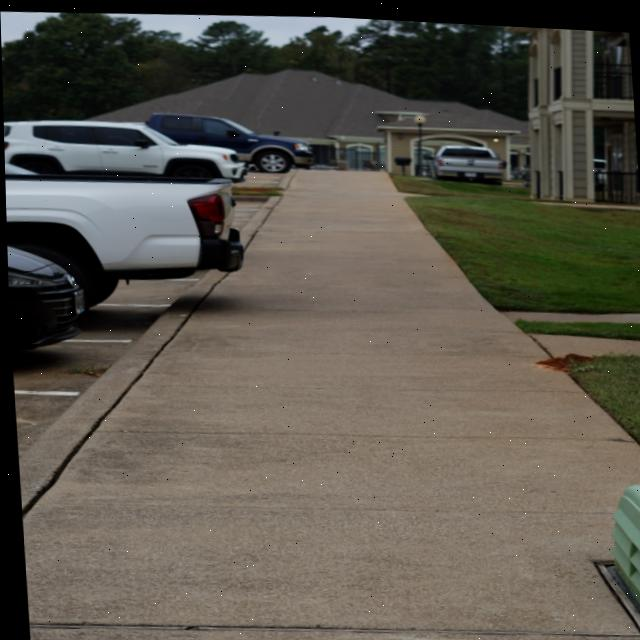Automobile: (4, 173, 233, 306), (3, 120, 245, 178), (144, 111, 311, 169), (6, 246, 79, 349), (432, 140, 503, 179)
Obstacle: (608, 477, 640, 602), (590, 555, 640, 626)
Road: (9, 268, 204, 455), (228, 168, 293, 233)
Sidewalk: (19, 167, 640, 640), (526, 328, 640, 351), (498, 305, 640, 317)
